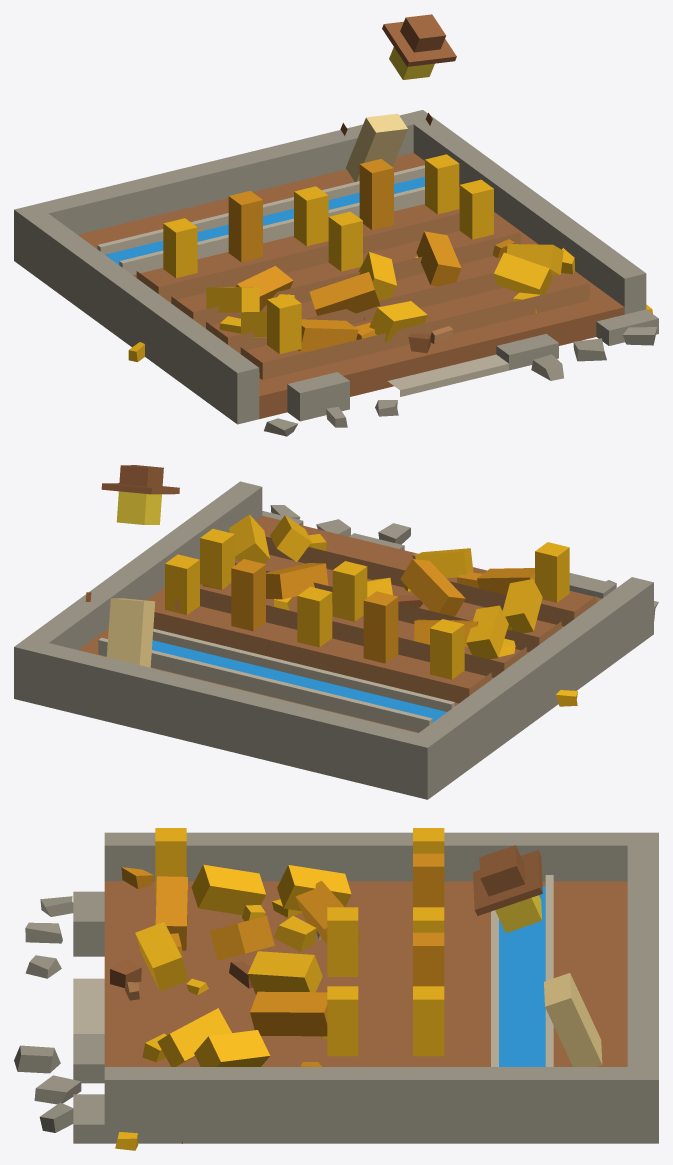
File: field_t3_v1_dmg1.glb
3 renders of one model, top to bottom at view 1: azimuth 30°, elevation 25°; view 2: azimuth 150°, elevation 25°; view 3: azimuth 270°, elevation 25°, orthographic. The views are drawn at different scales.
Parts seen in each view (by area): view 1: field_t3_v1_dmg1; view 2: field_t3_v1_dmg1; view 3: field_t3_v1_dmg1.
Part boxes in pixels (x1,y1,x2,y2): field_t3_v1_dmg1: (14,14,658,436); field_t3_v1_dmg1: (14,465,658,799); field_t3_v1_dmg1: (14,828,658,1150).
Size of the model in its own units: 0.8022 by 0.358 by 0.8262.
1 material, 1 textured.
